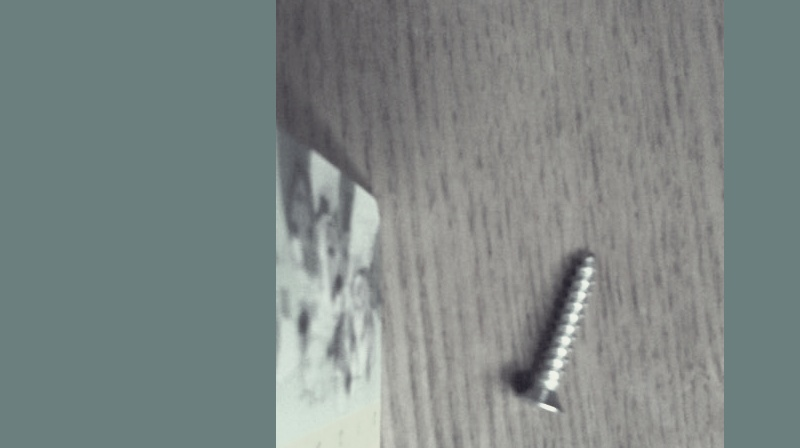S001: (510, 249, 599, 416)
